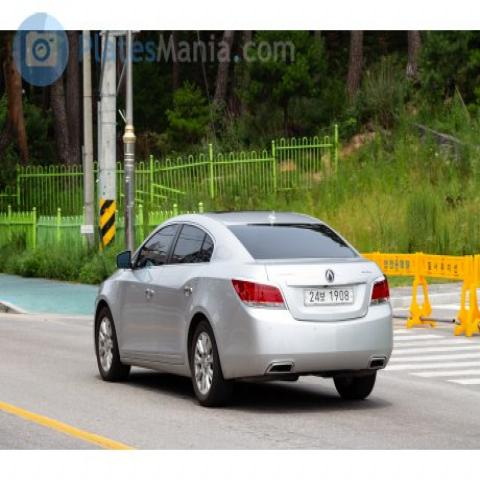LP: (301, 281, 358, 306)
